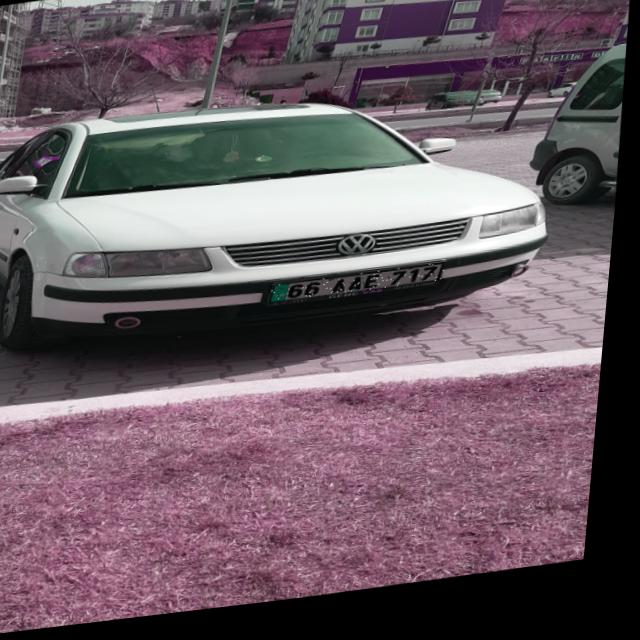plate: (274, 273, 450, 311)
